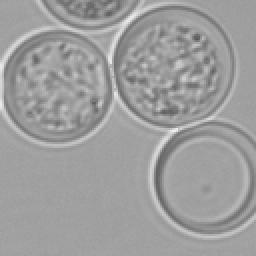picoshell: (112, 2, 236, 130), (0, 26, 112, 146), (150, 112, 254, 238), (36, 0, 142, 32)
